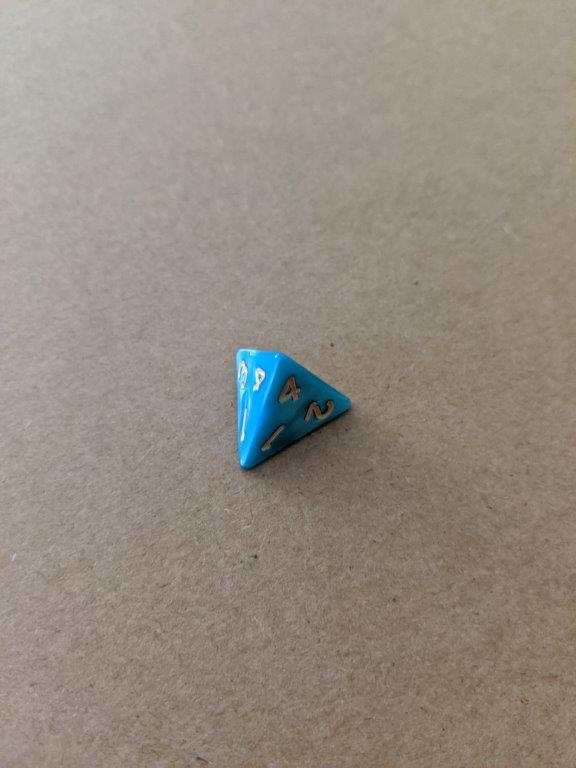d4-4: (234, 345, 355, 470)
